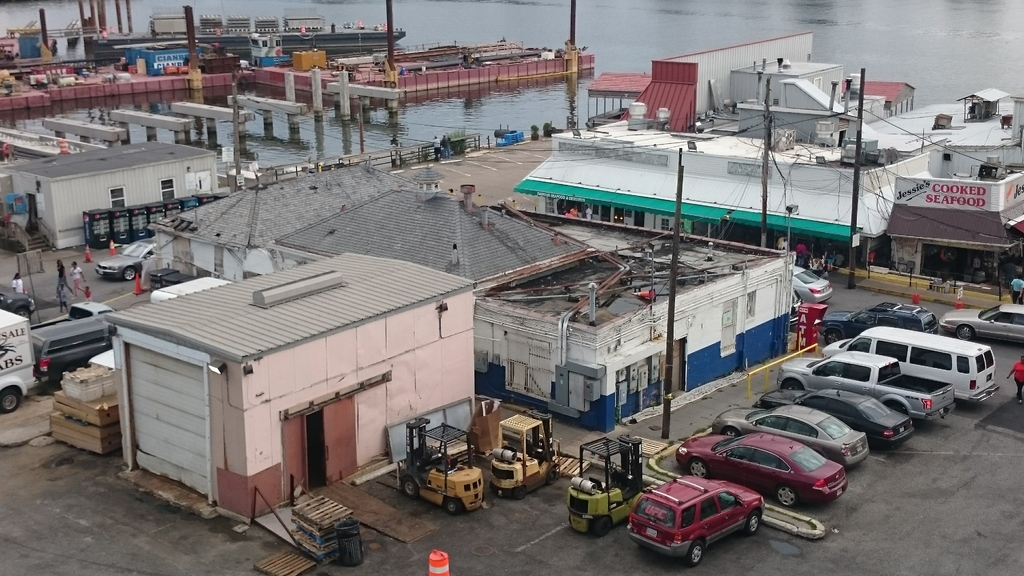Car: (675, 324, 1003, 509), (634, 474, 767, 551), (819, 299, 938, 333), (942, 303, 1023, 344), (94, 236, 154, 282), (792, 264, 833, 303), (0, 291, 35, 320)
